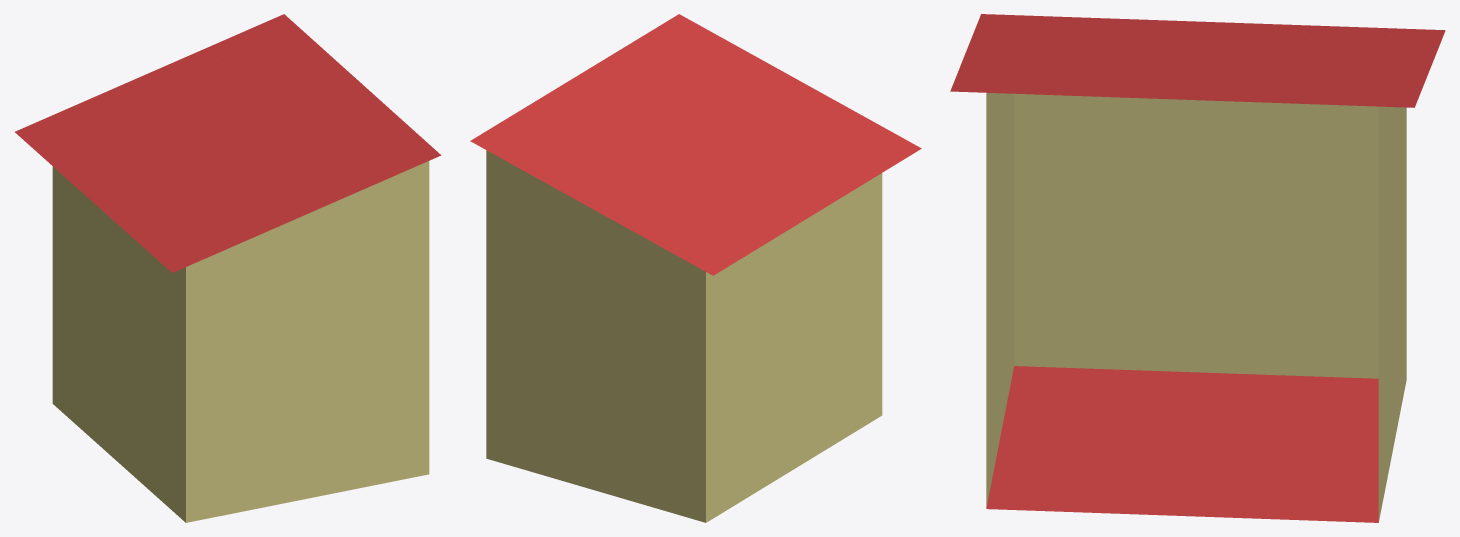
The picture shows the model from 3 angles, left to right: view 1: azimuth 30°, elevation 25°; view 2: azimuth 150°, elevation 25°; view 3: azimuth 270°, elevation 25°; orthographic projection. The views are drawn at different scales.
Bounding box in the file's own units: 5.72 × 6.86 × 6.36.
